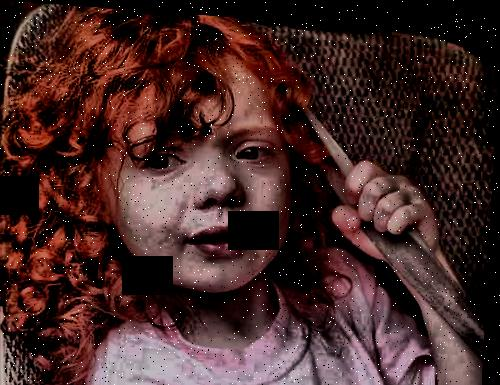seatbelt: (282, 100, 497, 354)
